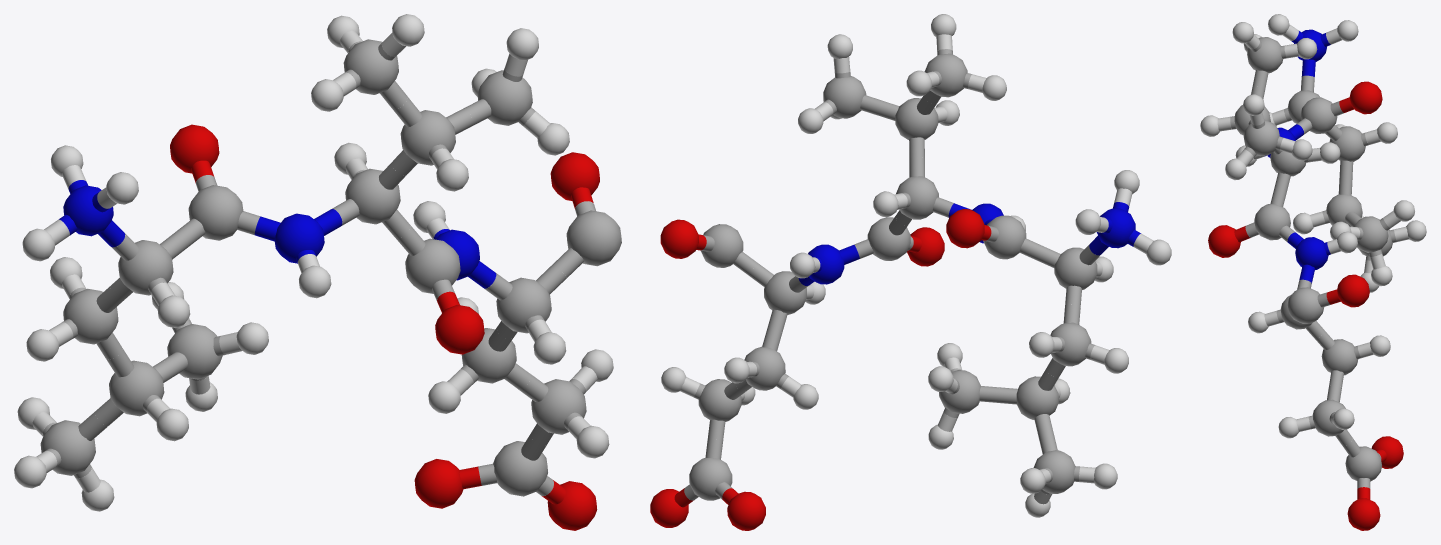
The model's file is pept1.gltf.
The picture shows the model from 3 angles, left to right: view 1: azimuth 30°, elevation 25°; view 2: azimuth 150°, elevation 25°; view 3: azimuth 270°, elevation 25°; orthographic projection. The views are drawn at different scales.
Visible parts, largest first — view 1: vmd_mol0_rep2; view 2: vmd_mol0_rep2; view 3: vmd_mol0_rep2.
Part boxes in pixels (x1,y1,x2,y2): vmd_mol0_rep2: [14, 14, 621, 530]; vmd_mol0_rep2: [650, 14, 1171, 530]; vmd_mol0_rep2: [1200, 14, 1426, 530].
Size of the model in its own units: 1.38 by 1.38 by 0.6658.
